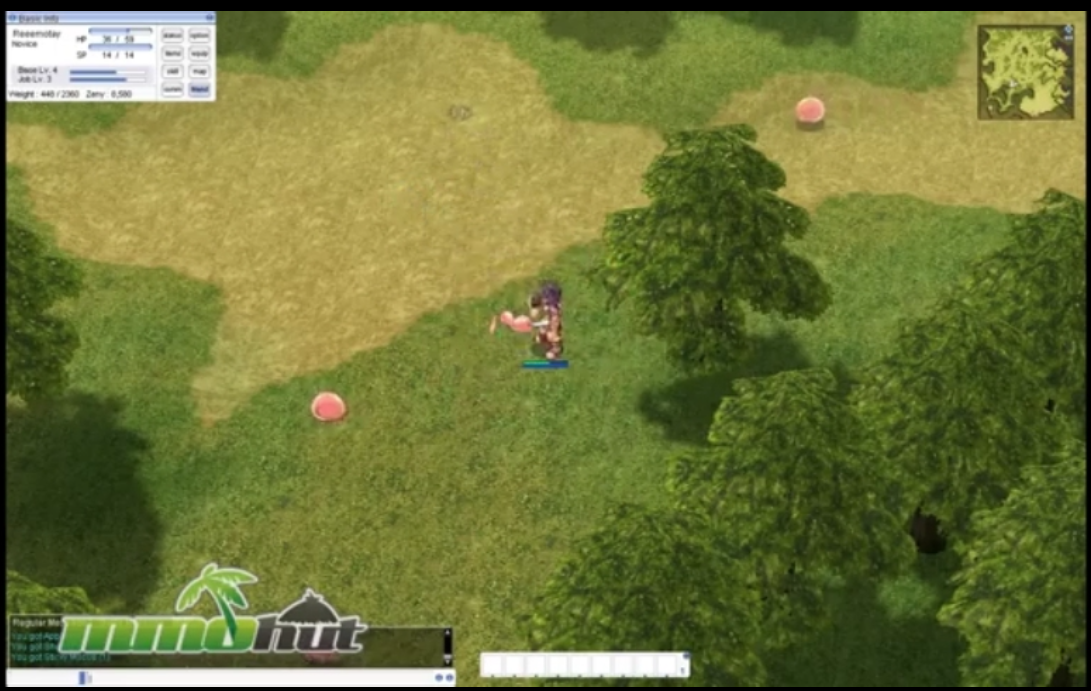porling: (300, 389, 350, 423), (794, 92, 831, 124)
